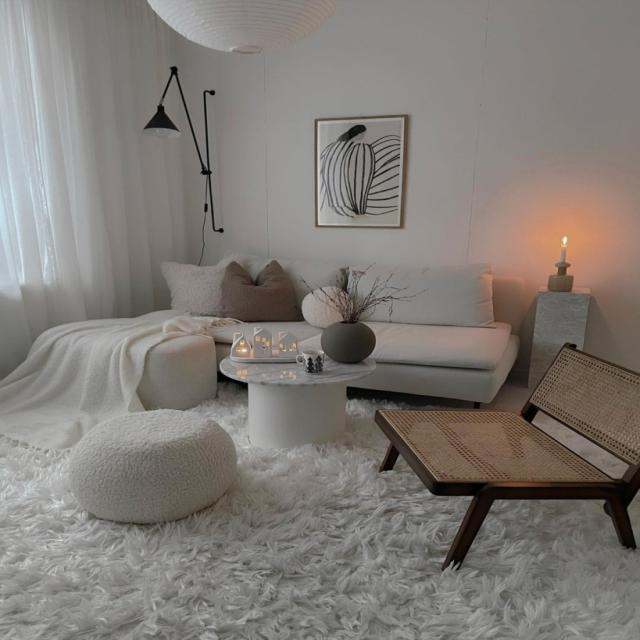white sofa: (162, 266, 518, 419)
